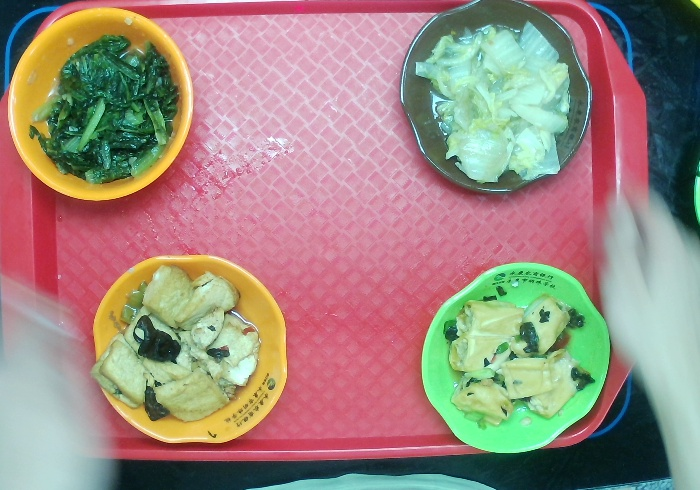YKMZ-Ju_Se_Ao_Bian_Wan: (92, 252, 290, 448)
YKMZ-Ju_Se_Yuan_Wan: (7, 5, 198, 203)
YKMZ-Ka_Fei_Ao_Bian_Wan: (398, 1, 595, 197)
YKMZ-Lv_Se_Ao_Bian_Wan: (421, 262, 615, 457)
